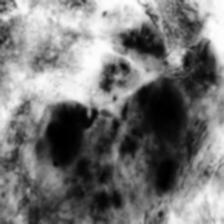Potentially Malignant Skin Tumors: (36, 75, 190, 224)
